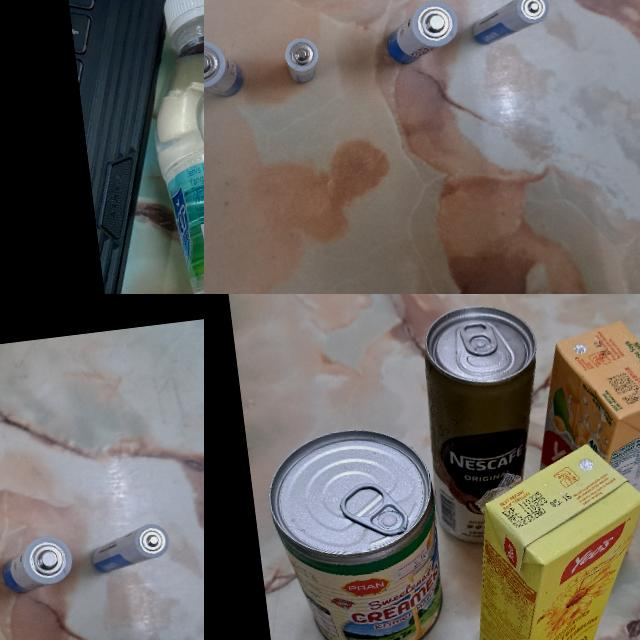aba de lata: (337, 479, 408, 542), (459, 318, 498, 358)
bateria: (381, 0, 463, 67), (0, 532, 75, 595), (90, 520, 172, 574), (469, 0, 552, 45), (204, 35, 247, 103), (282, 34, 322, 84)
caixinha: (452, 435, 640, 640), (521, 311, 640, 507)
garrafa plástica: (139, 23, 204, 294)
lata: (261, 417, 451, 640), (412, 299, 558, 547)
tampa plástica: (160, 0, 204, 50)
